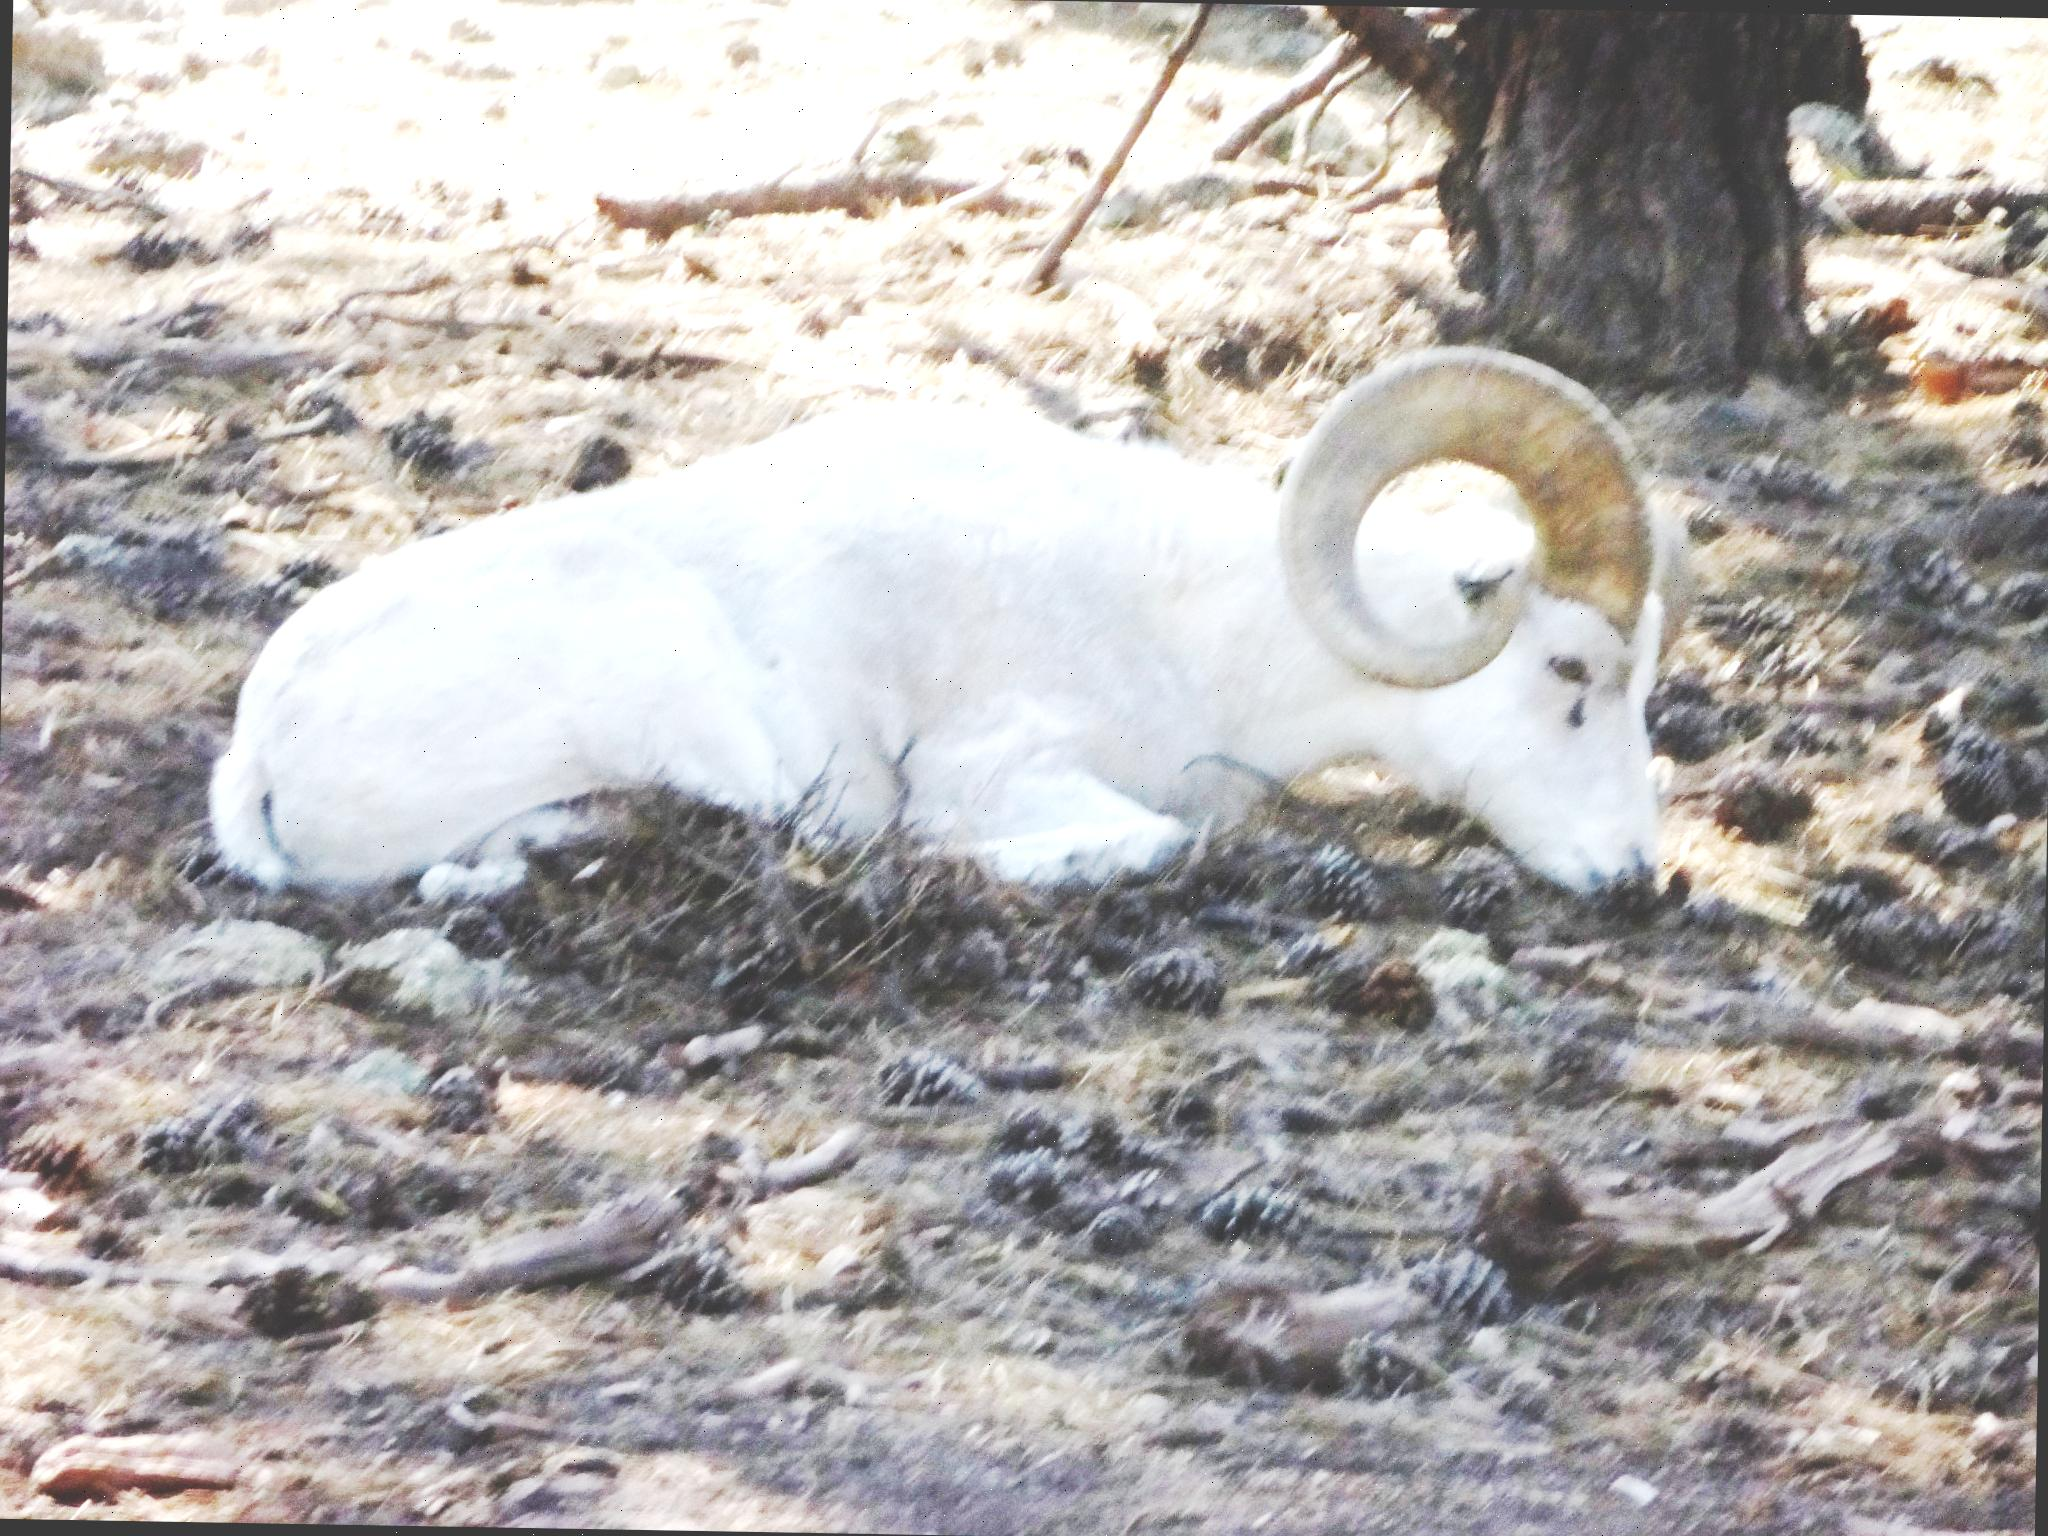Sheep: (198, 318, 1684, 936)
